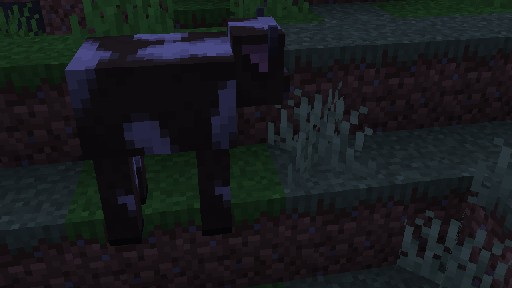cow: (63, 5, 289, 246)
